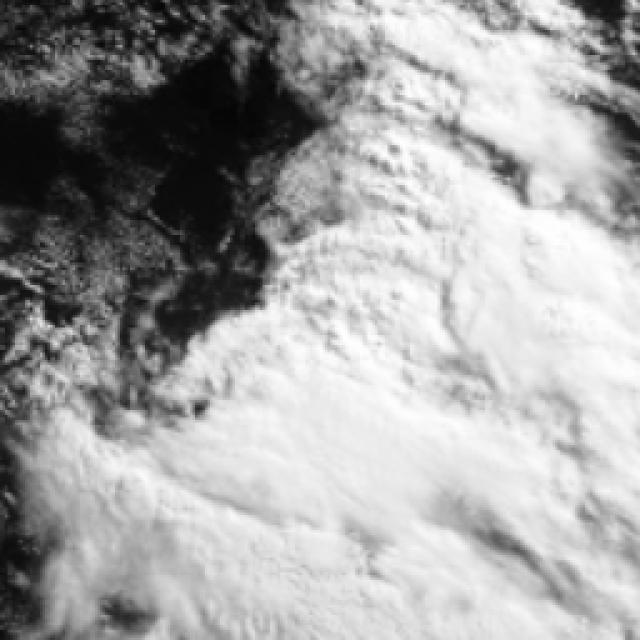CB: (233, 343, 432, 511), (324, 490, 536, 640), (115, 459, 345, 594), (437, 340, 640, 480), (374, 208, 540, 365), (444, 206, 620, 348)
